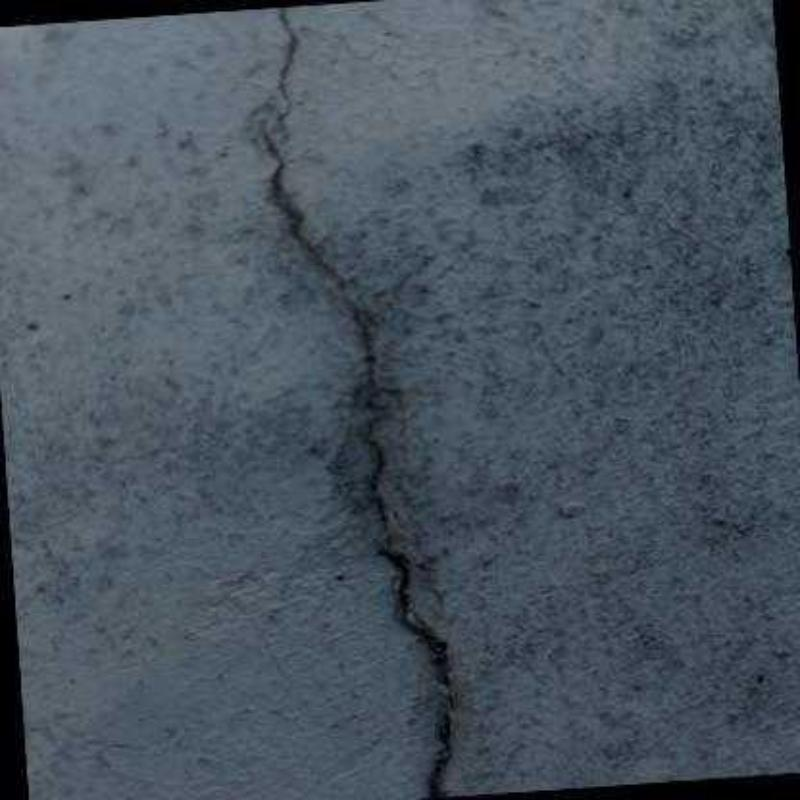pothole: (256, 112, 458, 798), (277, 6, 300, 121)
